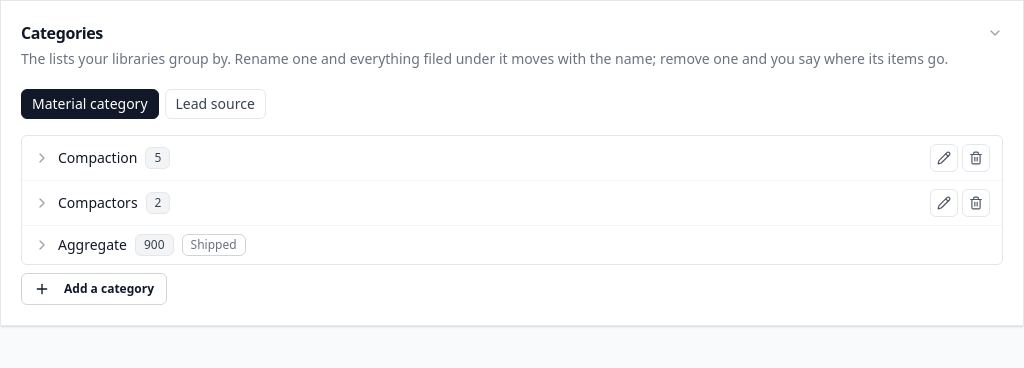
opening one › says so plainly when nothing is filed under it
Check: the text "Compaction" is shown, box [58, 148, 137, 168]
Click the button with aria-label "what is filed under Compaction" at (98, 158), box [34, 147, 922, 169]
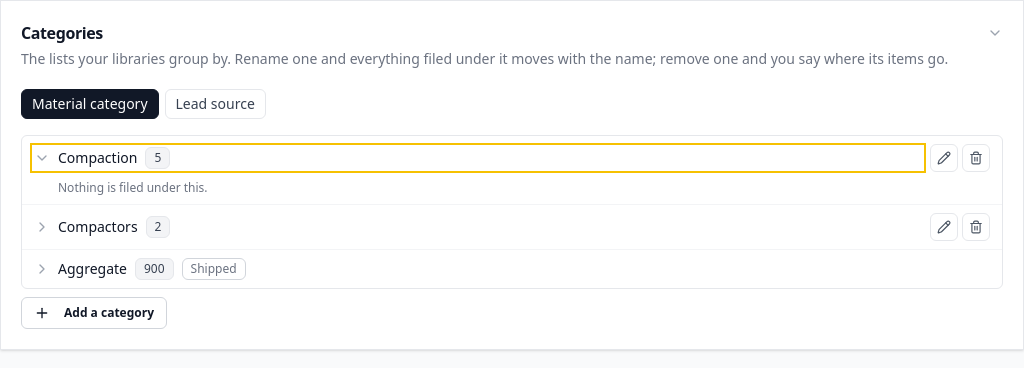
Check: the text "Nothing is filed under this." is shown, box [58, 179, 208, 196]
